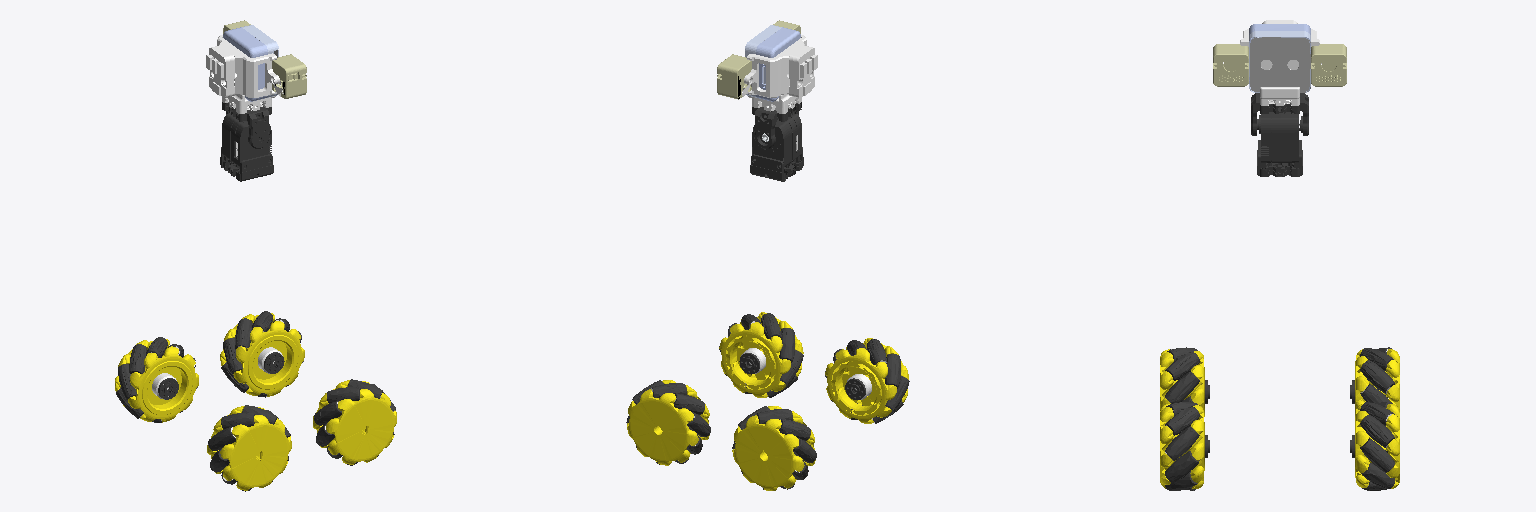
robot.urdf — jedy:
<?xml version='1.0' encoding='UTF-8'?>
<robot name="jedy">
  <link name="base_link">
  </link>
  <joint name="pseudo_base_joint" type="fixed" >
    <parent link="base_link"/>
    <child link="real_base_link"/>
    <axis xyz="0. 0. 0."/>
    <origin xyz="0 0 0" rpy="1.5707926535897931 0 1.5707926535897931"/>
  </joint>
  <link name="real_base_link">
    <inertial>
      <!-- <origin xyz="-0.000351195235755456 -0.00810559992797557 -0.00714910691571756" rpy="0.0 -0.0 0.0"/> -->
      <!-- <origin xyz="-0.000351195235755456 -0.00810559992797557 -0.0714910691571756" rpy="0.0 -0.0 0.0"/> -->
      <!-- <mass value="0.642084743261537"/> -->
      <!-- <inertia ixx="0.000162581139421146" ixy="5.0286786144231E-07" ixz="-9.48818029464138E-07" iyy="0.00024560311724061" iyz="-4.58171534930513E-07" izz="0.000278850372812181"/> -->
      <mass value="0.671312" />
      <origin xyz="0.00124 1.38911e-10 0.02081" rpy="0 -0 0" />
      <inertia ixx="0.001849" ixy="-8.30713e-06" ixz="-1.71308e-06" iyy="0.002122" iyz="1.45167e-06" izz="0.003179" />
    </inertial>
    <visual>
      <geometry>
        <mesh filename="package://jedy_description/meshes/base_link.dae"/>
      </geometry>
      <material name=""/>
      <origin xyz="0.0 0.0 0.0" rpy="0.0 -0.0 0.0"/>
    </visual>
    <collision>
      <geometry>
        <mesh filename="package://jedy_description/meshes/base_link.stl"/>
      </geometry>
      <origin xyz="0.0 0.0 0.0" rpy="0.0 -0.0 0.0"/>
    </collision>
  </link>

  <joint name="base_laser_joint" type="fixed">
    <origin xyz="0.1 0 -0.0" rpy="0 0 0"/>
    <parent link="base_link"/>
    <child link="base_laser"/>
  </joint>
  <link name="base_laser">
  </link>


  <link name="head_link0">
    <inertial>
      <!-- <origin xyz="0.0287818497143985 7.60906775256067e-05 -0.0859291022791144" rpy="0.0 -0.0 0.0"/> -->
      <!-- <mass value="0.0267722516782374"/> -->
      <!-- <!-\- <inertia ixx="3.14025785519115e-06" ixy="-2.10545016600164e-08" ixz="-1.16767691320583e-08" iyy="2.7399353078212e-06" iyz="-3.18816576528483e-09" izz="3.21445108840277e-06"/> -\-> -->
      <!-- <inertia ixx="1.000000e-04" ixy="-2.10545016600164e-08" ixz="-1.16767691320583e-08" iyy="1.000000e-04" iyz="-3.18816576528483e-09" izz="1.000000e-04"/> -->
      <mass value="0.037398" />
      <origin xyz="-1.73472e-18 1.22056e-18 0.023093" rpy="0 -0 0" />
      <inertia ixx="8.69139e-05" ixy="-8.96373e-22" ixz="8.61164e-09" iyy="9.09972e-05" iyz="-5.25778e-09" izz="2.5436e-05" />
    </inertial>
    <visual>
      <geometry>
        <mesh filename="package://jedy_description/meshes/head_link0.dae"/>
      </geometry>
      <material name=""/>
      <origin xyz="0.00749999999999987 -5.38287282543344e-17 -0.086" rpy="1.57079632679491 -1.22464679914727e-16 1.5707963267949"/>
    </visual>
    <collision>
      <geometry>
        <mesh filename="package://jedy_description/meshes/head_link0.stl"/>
      </geometry>
      <origin xyz="0.00749999999999987 -5.38287282543344e-17 -0.086" rpy="1.57079632679491 -1.22464679914727e-16 1.5707963267949"/>
    </collision>
  </link>
  <link name="head_link1">
    <inertial>
      <mass value="0.093045" />
      <origin xyz="-0.001016 3.60351e-18 0.186465" rpy="0 -0 0" />
      <inertia ixx="0.000665" ixy="-1.79922e-07" ixz="-6.65543e-08" iyy="0.000652" iyz="-1.79583e-08" izz="0.000109" />
      <!-- <origin xyz="0.0563071474852643 0.00458336726096902 -0.118986177954781" rpy="0.0 -0.0 0.0"/> -->
      <!-- <mass value="0.184305345878305"/> -->
      <!-- <!-\- <inertia ixx="2.6255357924015e-05" ixy="3.04375090051604e-08" ixz="-4.80511209762755e-08" iyy="2.79766917910753e-05" iyz="-2.78258729227929e-08" izz="4.63202146600336e-05"/> -\-> -->
      <!-- <inertia ixx="1.000000e-04" ixy="3.04375090051604e-08" ixz="-4.80511209762755e-08" iyy="1.000000e-04" iyz="-2.78258729227929e-08" izz="1.000000e-04"/> -->
    </inertial>
    <visual>
      <geometry>
        <mesh filename="package://jedy_description/meshes/head_link1.dae"/>
      </geometry>
      <material name=""/>
      <origin xyz="0.00749999999999211 1.66972953365245e-15 -0.119" rpy="1.57079632679491 -2.044002511535201e-16 1.57079632679492"/>
    </visual>
    <collision>
      <geometry>
        <mesh filename="package://jedy_description/meshes/head_link1.stl"/>
      </geometry>
      <origin xyz="0.00749999999999211 1.66972953365245e-15 -0.119" rpy="1.57079632679491 -2.044002511535201e-16 1.57079632679492"/>
    </collision>
  </link>
  <link name="front_right_wheel_link">
    <inertial>
      <!-- <origin xyz="0.0344932842136683 0.0970000970916309 -0.0435000024416005" rpy="0.0 -0.0 0.0"/> -->
      <!-- <mass value="0.0620356799852319"/> -->
      <!-- <!-\- <inertia ixx="1.17891072454946e-05" ixy="-4.41939757993746e-11" ixz="2.8155029764713e-12" iyy="9.70723532361731e-06" iyz="2.3526216007568e-12" izz="9.707219297398e-06"/> -\-> -->
      <!-- <inertia ixx="1.000000e-04" ixy="-4.41939757993746e-11" ixz="2.8155029764713e-12" iyy="1.000000e-04" iyz="2.3526216007568e-12" izz="1.000000e-04"/> -->
      <mass value="0.095024" />
      <origin xyz="-6.93889e-18 0.016915 0" rpy="0 -0 0"/>
      <inertia ixx="0.000174" ixy="5.9261e-22" ixz="5.04911e-20" iyy="0.000173" iyz="-1.9762e-20" izz="0.000262"/>

    </inertial>
    <visual>
      <geometry>
        <mesh filename="package://jedy_description/meshes/front_right_wheel_link.dae"/>
      </geometry>
      <material name=""/>
      <origin xyz="0.0505000000000009 0.097 -0.0434999999999994" rpy="0.0 -0.0 0.0"/>
      <!-- <origin xyz="-0.02 0 0" rpy="0 1.5707963267948966 0"/> -->
      <!-- <geometry> -->
      <!--   <cylinder radius="0.03" length="0.02"/> -->
      <!-- </geometry> -->
    </visual>
    <!-- <collision> -->
    <!--   <geometry> -->
    <!--     <mesh filename="package://jedy_description/meshes/front_right_wheel_link.stl"/> -->
    <!--   </geometry> -->
    <!--   <origin xyz="0.0505000000000009 0.097 -0.0434999999999994" rpy="0.0 -0.0 0.0"/> -->
    <!-- </collision> -->
    <collision>
      <origin xyz="-0.02 0 0" rpy="0 1.5707963267948966 0"/>
      <geometry>
        <cylinder radius="0.03" length="0.02"/>
      </geometry>
      <self_collide>false</self_collide>
    </collision>
  </link>
  <link name="front_left_wheel_link">
    <inertial>
      <!-- <origin xyz="-0.0344932901302818 0.0969999049831629 -0.0435000004047774" rpy="0.0 -0.0 0.0"/> -->
      <!-- <mass value="0.0620331863909222"/> -->
      <!-- <!-\- <inertia ixx="1.17881307318182e-05" ixy="-4.52960489509934e-11" ixz="2.33278294698924e-12" iyy="9.70649490175883e-06" iyz="3.34165767029261e-12" izz="9.7064772842312e-06"/> -\-> -->
      <!-- <inertia ixx="1.000000e-04" ixy="-4.52960489509934e-11" ixz="2.33278294698924e-12" iyy="1.000000e-04" iyz="3.34165767029261e-12" izz="1.000000e-04"/> -->
      <mass value="0.095024" />
      <origin xyz="-6.93889e-18 0.016915 0" rpy="0 -0 0"/>
      <inertia ixx="0.000174" ixy="5.9261e-22" ixz="5.04911e-20" iyy="0.000173" iyz="-1.9762e-20" izz="0.000262"/>

    </inertial>
    <visual>
      <geometry>
        <mesh filename="package://jedy_description/meshes/front_left_wheel_link.dae"/>
      </geometry>
      <material name=""/>
      <origin xyz="-0.0504999999999993 0.0970000000000006 -0.0434999999999985" rpy="0.0 -0.0 0.0"/>
      <!-- <origin xyz="0.02 0 0" rpy="0 1.5707963267948966 0"/> -->
      <!-- <geometry> -->
      <!--   <cylinder radius="0.03" length="0.02"/> -->
      <!-- </geometry> -->
    </visual>
    <!-- <collision> -->
    <!--   <geometry> -->
    <!--     <mesh filename="package://jedy_description/meshes/front_left_wheel_link.stl"/> -->
    <!--   </geometry> -->
    <!--   <origin xyz="-0.0504999999999993 0.0970000000000006 -0.0434999999999985" rpy="0.0 -0.0 0.0"/> -->
    <!-- </collision> -->
    <collision>
      <origin xyz="0.02 0 0" rpy="0 1.5707963267948966 0"/>
      <geometry>
        <cylinder radius="0.03" length="0.02"/>
      </geometry>
      <self_collide>false</self_collide>
    </collision>
  </link>
  <link name="rear_right_wheel_link">
    <inertial>
      <mass value="0.095024" />
      <origin xyz="-6.93889e-18 0.016915 0" rpy="0 -0 0"/>
      <inertia ixx="0.000174" ixy="5.9261e-22" ixz="5.04911e-20" iyy="0.000173" iyz="-1.9762e-20" izz="0.000262"/>

      <!-- <origin xyz="0.0344932842136686 0.0970000970916324 0.0434999975583993" rpy="0.0 -0.0 0.0"/> -->
      <!-- <mass value="0.0620356799852319"/> -->
      <!-- <!-\- <inertia ixx="1.17891072454946e-05" ixy="-4.41939758006981e-11" ixz="2.81550297072405e-12" iyy="9.70723532361731e-06" iyz="2.35262160013476e-12" izz="9.707219297398e-06"/> -\-> -->
      <!-- <inertia ixx="1.000000e-04" ixy="-4.41939758006981e-11" ixz="2.81550297072405e-12" iyy="1.000000e-04" iyz="2.35262160013476e-12" izz="1.000000e-04"/> -->
    </inertial>
    <visual>
      <geometry>
        <mesh filename="package://jedy_description/meshes/rear_right_wheel_link.dae"/>
      </geometry>
      <material name=""/>
      <origin xyz="0.0505000000000012 0.0969999999999992 0.0435000000000006" rpy="0.0 -0.0 0.0"/>
      <!-- <origin xyz="-0.02 0 0" rpy="0 1.5707963267948966 0"/> -->
      <!-- <geometry> -->
      <!--   <cylinder radius="0.03" length="0.02"/> -->
      <!-- </geometry> -->
    </visual>
    <!-- <collision> -->
    <!--   <geometry> -->
    <!--     <mesh filename="package://jedy_description/meshes/rear_right_wheel_link.stl"/> -->
    <!--   </geometry> -->
    <!--   <origin xyz="0.0505000000000012 0.0969999999999992 0.0435000000000006" rpy="0.0 -0.0 0.0"/> -->
    <!-- </collision> -->
    <collision>
      <origin xyz="-0.02 0 0" rpy="0 1.5707963267948966 0"/>
      <geometry>
        <cylinder radius="0.03" length="0.02"/>
      </geometry>
      <self_collide>false</self_collide>
    </collision>
  </link>
  <link name="rear_left_wheel_link">
    <inertial>
      <!-- <origin xyz="-0.0344932901302836 0.0969999049831609 0.0434999995952184" rpy="0.0 -0.0 0.0"/> -->
      <!-- <mass value="0.0620331863909222"/> -->
      <!-- <!-\- <inertia ixx="1.17881307318182e-05" ixy="-4.52960489535212e-11" ixz="2.33278294290793e-12" iyy="9.70649490175883e-06" iyz="3.34165766872427e-12" izz="9.70647728423119e-06"/> -\-> -->
      <!-- <inertia ixx="1.000000e-04" ixy="-4.52960489535212e-11" ixz="2.33278294290793e-12" iyy="1.000000e-04" iyz="3.34165766872427e-12" izz="1.000000e-04"/> -->
      <mass value="0.095024" />
      <origin xyz="-6.93889e-18 0.016915 0" rpy="0 -0 0"/>
      <inertia ixx="0.000174" ixy="5.9261e-22" ixz="5.04911e-20" iyy="0.000173" iyz="-1.9762e-20" izz="0.000262"/>

    </inertial>
    <visual>
      <geometry>
        <mesh filename="package://jedy_description/meshes/rear_left_wheel_link.dae"/>
      </geometry>
      <material name=""/>
      <origin xyz="-0.0504999999999999 0.0969999999999994 0.0435000000000005" rpy="0.0 -0.0 0.0"/>
      <!-- <origin xyz="0.02 0 0" rpy="0 1.5707963267948966 0"/> -->
      <!-- <geometry> -->
      <!--   <cylinder radius="0.03" length="0.02"/> -->
      <!-- </geometry> -->
    </visual>
    <!-- <collision> -->
    <!--   <geometry> -->
    <!--     <mesh filename="package://jedy_description/meshes/rear_left_wheel_link.stl"/> -->
    <!--   </geometry> -->
    <!--   <origin xyz="-0.0504999999999999 0.0969999999999994 0.0435000000000005" rpy="0.0 -0.0 0.0"/> -->
    <!-- </collision> -->
    <collision>
      <origin xyz="0.02 0 0" rpy="0 1.5707963267948966 0"/>
      <geometry>
        <cylinder radius="0.03" length="0.02"/>
      </geometry>
      <self_collide>false</self_collide>
    </collision>
  </link>

  <joint name="head_joint0" type="revolute">
    <limit effort="0.48" velocity="6.55" lower="-2.35" upper="2.35"/>
    <parent link="real_base_link"/>
    <child link="head_link0"/>
    <axis xyz="0. 0. 1."/>
    <origin xyz="0.0 0.086 -0.0075" rpy="-3.141592653589793 -1.5707926535897931 1.5707926535897931"/>
  </joint>
  <joint name="head_joint1" type="revolute">
    <limit effort="0.48" velocity="6.55" lower="-1.57" upper="1.57"/>
    <parent link="head_link0"/>
    <child link="head_link1"/>
    <axis xyz="0. 1. 0."/>
    <origin xyz="0.0 0.0 0.033" rpy="0.0 -0.0 0.0"/>
  </joint>
  <joint name="front_right_wheel_joint" type="continuous">
    <!-- <limit effort="0.48" velocity="6.55"/> -->
    <limit effort="100" velocity="6.55"/>
    <parent link="real_base_link"/>
    <child link="front_right_wheel_link"/>
    <axis xyz="1. 0. 0."/>
    <origin xyz="-0.0505 -0.097 0.0435" rpy="0.0 -0.0 0.0"/>
  </joint>
  <joint name="front_left_wheel_joint" type="continuous">
    <!-- <limit effort="0.48" velocity="6.55"/> -->
    <limit effort="100" velocity="6.55"/>
    <parent link="real_base_link"/>
    <child link="front_left_wheel_link"/>
    <axis xyz="1. 0. 0."/>
    <origin xyz="0.0505 -0.097 0.0435" rpy="0.0 -0.0 0.0"/>
  </joint>
  <joint name="rear_right_wheel_joint" type="continuous">
    <!-- <limit effort="0.48" velocity="6.55"/> -->
    <limit effort="100" velocity="6.55"/>
    <parent link="real_base_link"/>
    <child link="rear_right_wheel_link"/>
    <axis xyz="1. 0. 0."/>
    <origin xyz="-0.0505 -0.097 -0.0435" rpy="0.0 -0.0 0.0"/>
  </joint>
  <joint name="rear_left_wheel_joint" type="continuous">
    <!-- <limit effort="0.48" velocity="6.55"/> -->
    <limit effort="100" velocity="6.55"/>
    <parent link="real_base_link"/>
    <child link="rear_left_wheel_link"/>
    <axis xyz="1. 0. 0."/>
    <origin xyz="0.0505 -0.097 -0.0435" rpy="0.0 -0.0 0.0"/>
  </joint>
  <material name="">
    <color rgba="0.75294118 0.75294118 0.75294118 1.        "/>
  </material>

  <gazebo reference="real_base_link">
    <mu1>0.5</mu1>
    <mu2>0.5</mu2>
    <kp>100000</kp>
    <kd>1</kd>
    <gravity>true</gravity>
    <sensor name="imu_sensor" type="imu">
      <always_on>true</always_on>
      <update_rate>100</update_rate>
      <visualize>true</visualize>
      <topic>__default_topic__</topic>
      <plugin filename="libgazebo_ros_imu_sensor.so" name="imu_plugin">
        <robotNamespace>/imu_publisher</robotNamespace>
        <topicName>imu</topicName>
        <bodyName>real_base_link</bodyName>
        <updateRateHZ>100.0</updateRateHZ>
        <gaussianNoise>0.0</gaussianNoise>
        <xyzOffset>0 0 0</xyzOffset>
        <rpyOffset>0 0 0</rpyOffset>
        <frameName>real_base_link</frameName>
      </plugin>
      <pose>0 0 0 0 0 0</pose>
    </sensor>
  </gazebo>

  <gazebo reference="base_laser">
    <sensor type="ray" name="laser">
      <pose>0 0 0 0 0 0</pose>
      <visualize>false</visualize>
      <update_rate>10</update_rate>
      <ray>
        <scan>
          <horizontal>
            <samples>720</samples>
            <resolution>1</resolution>
            <min_angle>-1.5708</min_angle>
            <max_angle>1.5708</max_angle>
          </horizontal>
        </scan>
        <range>
          <min>0.1</min>
          <max>12.0</max>
        </range>
        <noise>
          <type>gaussian</type>
          <mean>0.0</mean>
          <stddev>0.01</stddev>
        </noise>
      </ray>
      <plugin name="gazebo_ros_laser" filename="libgazebo_ros_laser.so">
        <robotNamespace>/</robotNamespace>
        <frameName>base_laser</frameName>
        <topicName>scan</topicName>
      </plugin>
    </sensor>
  </gazebo>

  <gazebo reference="head_joint0">
    <mu1>0.4</mu1>
    <mu2>0.4</mu2>
    <kp>100000</kp>
    <kd>1</kd>
  </gazebo>
  <gazebo reference="head_joint1">
    <mu1>0.4</mu1>
    <mu2>0.4</mu2>
    <kp>100000</kp>
    <kd>1</kd>
  </gazebo>
  <gazebo reference="front_right_wheel_joint">
    <mu1>1000</mu1>
    <mu2>1000</mu2>
    <kp>10000000</kp>
    <kd>1</kd>
    <maxVel value="100.0"/>
    <minDepth value="0.0"/>
  </gazebo>
  <gazebo reference="front_left_wheel_joint">
    <mu1>1000</mu1>
    <mu2>1000</mu2>
    <kp>10000000</kp>
    <kd>1</kd>
    <maxVel value="100.0"/>
    <minDepth value="0.0"/>
  </gazebo>
  <gazebo reference="rear_right_wheel_joint">
    <mu1>1000</mu1>
    <mu2>1000</mu2>
    <kp>10000000</kp>
    <kd>1</kd>
    <maxVel value="100.0"/>
    <minDepth value="0.0"/>
  </gazebo>
  <gazebo reference="rear_left_wheel_joint">
    <mu1>1000</mu1>
    <mu2>1000</mu2>
    <kp>10000000</kp>
    <kd>1</kd>
    <maxVel value="100.0"/>
    <minDepth value="0.0"/>
  </gazebo>

  <joint name="camera_joint" type="fixed">
    <origin rpy="0 0 0" xyz="0 0.005 0.05"/>
    <parent link="head_link1"/>
    <child link="camera_link"/>
  </joint>

  <link name="camera_link">
    <visual>
      <origin rpy="0 0 1.5707963267948966" xyz="0 0 0"/>
    </visual>
    <collision>
      <origin rpy="0 0 0" xyz="0.0 0.0 0.0"/>
    </collision>
    <inertial>
      <mass value="0.564"/>
      <origin xyz="0 0 0"/>
      <inertia ixx="0.003881243" ixy="0.0" ixz="0.0" iyy="0.000498940" iyz="0.0" izz="0.003879257"/>
    </inertial>
  </link>

  <link name="camera_color_frame"></link>
  <joint name="camera_color_frame_joint" type="fixed"> <origin rpy="0 0 0" xyz="0 0 0"/> <parent link="camera_link"/> <child link="camera_color_frame"/> </joint>
  <link name="camera_color_optical_frame"></link>
  <joint name="camera_color_optical_frame_joint" type="fixed"> <origin rpy="-1.57 0 -1.57" xyz="0 0 0"/> <parent link="camera_color_frame"/> <child link="camera_color_optical_frame"/> </joint>

  <link name="camera_depth_frame"></link>
  <joint name="camera_depth_frame_joint" type="fixed"> <origin rpy="0 0 0" xyz="0 0 0"/> <parent link="camera_link"/> <child link="camera_depth_frame"/> </joint>
  <link name="camera_depth_optical_frame"></link>
  <joint name="camera_depth_optical_frame_joint" type="fixed"> <origin rpy="-1.57 0 -1.57" xyz="0 0 0"/> <parent link="camera_depth_frame"/> <child link="camera_depth_optical_frame"/> </joint>

  <gazebo reference="camera_link">
    <sensor name="camera" type="depth">
      <always_on>true</always_on>
      <update_rate>5.0</update_rate>
      <camera>
        <horizontal_fov>1.0471975511965976</horizontal_fov>
        <image>
          <format>B8G8R8</format>
          <width>640</width>
          <height>480</height>
        </image>
        <clip>
          <near>0.05</near>
          <far>8.0</far>
        </clip>
      </camera>
      <!-- <plugin filename="libgazebo_ros_openni_kinect.so" name="kinect_camera_controller"> -->
      <!--   <cameraName>camera</cameraName> -->
      <!--   <alwaysOn>true</alwaysOn> -->
      <!--   <updateRate>5</updateRate> -->
      <!--   <imageTopicName>rgb/image_raw</imageTopicName> -->
      <!--   <depthImageTopicName>depth/image_raw</depthImageTopicName> -->
      <!--   <pointCloudTopicName>depth/points</pointCloudTopicName> -->
      <!--   <cameraInfoTopicName>rgb/camera_info</cameraInfoTopicName> -->
      <!--   <depthImageCameraInfoTopicName>depth/camera_info</depthImageCameraInfoTopicName> -->
      <!--   <frameName>camera_depth_optical_frame</frameName> -->
      <!--   <baseline>0.1</baseline> -->
      <!--   <distortion_k1>0.0</distortion_k1> -->
      <!--   <distortion_k2>0.0</distortion_k2> -->
      <!--   <distortion_k3>0.0</distortion_k3> -->
      <!--   <distortion_t1>0.0</distortion_t1> -->
      <!--   <distortion_t2>0.0</distortion_t2> -->
      <!--   <pointCloudCutoff>0.4</pointCloudCutoff> -->
      <!-- </plugin> -->
      <plugin filename="libgazebo_ros_openni_kinect.so" name="kinect_camera_controller">
        <cameraName>camera</cameraName>
        <alwaysOn>true</alwaysOn>
        <updateRate>5</updateRate>
        <imageTopicName>/camera/color/image_raw</imageTopicName>
        <depthImageTopicName>/camera/depth/image_raw</depthImageTopicName>
        <pointCloudTopicName>/camera/aligned_depth_to_color/points</pointCloudTopicName>
        <cameraInfoTopicName>/camera/color/camera_info</cameraInfoTopicName>
        <depthImageCameraInfoTopicName>/camera/depth/camera_info</depthImageCameraInfoTopicName>
        <frameName>camera_depth_optical_frame</frameName>
        <baseline>0.1</baseline>
        <distortion_k1>0.0</distortion_k1>
        <distortion_k2>0.0</distortion_k2>
        <distortion_k3>0.0</distortion_k3>
        <distortion_t1>0.0</distortion_t1>
        <distortion_t2>0.0</distortion_t2>
        <pointCloudCutoff>0.4</pointCloudCutoff>
      </plugin>

    </sensor>
  </gazebo>

  <gazebo>
    <plugin filename="libgazebo_ros_control.so" name="gazebo_ros_control"/>
  </gazebo>

  <transmission name="head_joint0_trans">
    <type>transmission_interface/SimpleTransmission</type>
    <joint name="head_joint0">
      <hardwareInterface>hardware_interface/PositionJointInterface</hardwareInterface>
    </joint>
    <actuator name="head_joint0_motor">
      <mechanicalReduction>1</mechanicalReduction>
      <hardwareInterface>hardware_interface/PositionJointInterface</hardwareInterface>
    </actuator>
  </transmission>
  <transmission name="head_joint1_trans">
    <type>transmission_interface/SimpleTransmission</type>
    <joint name="head_joint1">
      <hardwareInterface>hardware_interface/PositionJointInterface</hardwareInterface>
    </joint>
    <actuator name="head_joint1_motor">
      <mechanicalReduction>1</mechanicalReduction>
      <hardwareInterface>hardware_interface/PositionJointInterface</hardwareInterface>
    </actuator>
  </transmission>
  <transmission name="front_right_wheel_joint_trans">
    <type>transmission_interface/SimpleTransmission</type>
    <joint name="front_right_wheel_joint">
      <hardwareInterface>hardware_interface/VelocityJointInterface</hardwareInterface>
    </joint>
    <actuator name="front_right_wheel_joint_motor">
      <mechanicalReduction>80</mechanicalReduction>
      <hardwareInterface>hardware_interface/VelocityJointInterface</hardwareInterface>
    </actuator>
  </transmission>
  <transmission name="front_left_wheel_joint_trans">
    <type>transmission_interface/SimpleTransmission</type>
    <joint name="front_left_wheel_joint">
      <hardwareInterface>hardware_interface/VelocityJointInterface</hardwareInterface>
    </joint>
    <actuator name="front_left_wheel_joint_motor">
      <mechanicalReduction>80</mechanicalReduction>
      <hardwareInterface>hardware_interface/VelocityJointInterface</hardwareInterface>
    </actuator>
  </transmission>
  <transmission name="rear_right_wheel_joint_trans">
    <type>transmission_interface/SimpleTransmission</type>
    <joint name="rear_right_wheel_joint">
      <hardwareInterface>hardware_interface/VelocityJointInterface</hardwareInterface>
    </joint>
    <actuator name="rear_right_wheel_joint_motor">
      <mechanicalReduction>80</mechanicalReduction>
      <hardwareInterface>hardware_interface/VelocityJointInterface</hardwareInterface>
    </actuator>
  </transmission>
  <transmission name="rear_left_wheel_joint_trans">
    <type>transmission_interface/SimpleTransmission</type>
    <joint name="rear_left_wheel_joint">
      <hardwareInterface>hardware_interface/VelocityJointInterface</hardwareInterface>
    </joint>
    <actuator name="rear_left_wheel_joint_motor">
      <mechanicalReduction>80</mechanicalReduction>
      <hardwareInterface>hardware_interface/VelocityJointInterface</hardwareInterface>
    </actuator>
  </transmission>

</robot>

--- What the picture shows (computed from the rendered views, not written in the file) ---
Views: 3 orthographic renders of the robot side by side, from view 1: azimuth 30°, elevation 25°; view 2: azimuth 150°, elevation 25°; view 3: azimuth 270°, elevation 25°.
Robot: jedy — 14 links, 13 joints (2 revolute, 4 continuous, 7 fixed); root link base_link; default pose: all joints at 0.
Visible links, largest first — view 1: head_link1, rear_right_wheel_link, front_left_wheel_link, front_right_wheel_link, rear_left_wheel_link, head_link0; view 2: head_link1, front_left_wheel_link, rear_right_wheel_link, rear_left_wheel_link, front_right_wheel_link, head_link0; view 3: head_link1, front_left_wheel_link, front_right_wheel_link, head_link0, rear_right_wheel_link, rear_left_wheel_link.
Link boxes in pixels (<box>): head_link1: <box>206,20,306,148</box>; rear_right_wheel_link: <box>207,405,291,491</box>; front_left_wheel_link: <box>220,311,304,397</box>; front_right_wheel_link: <box>313,379,396,465</box>; rear_left_wheel_link: <box>115,337,198,422</box>; head_link0: <box>220,114,273,181</box>; head_link1: <box>717,20,817,148</box>; front_left_wheel_link: <box>626,380,710,465</box>; rear_right_wheel_link: <box>825,338,909,423</box>; rear_left_wheel_link: <box>732,406,816,490</box>; front_right_wheel_link: <box>719,312,803,397</box>; head_link0: <box>750,114,803,181</box>; head_link1: <box>1213,20,1346,135</box>; front_left_wheel_link: <box>1350,402,1399,490</box>; front_right_wheel_link: <box>1160,402,1209,490</box>; head_link0: <box>1257,107,1302,176</box>; rear_right_wheel_link: <box>1160,347,1209,416</box>; rear_left_wheel_link: <box>1350,347,1399,414</box>.
Bounding box of the posed robot: 0.1472 × 0.162 × 0.3182 m (x, y, z).
Meshes: 7 distinct files referenced, 6 mesh visuals loaded (6 Collada DAE); not drawn: 1 (reference not matched to a file when rendering).
